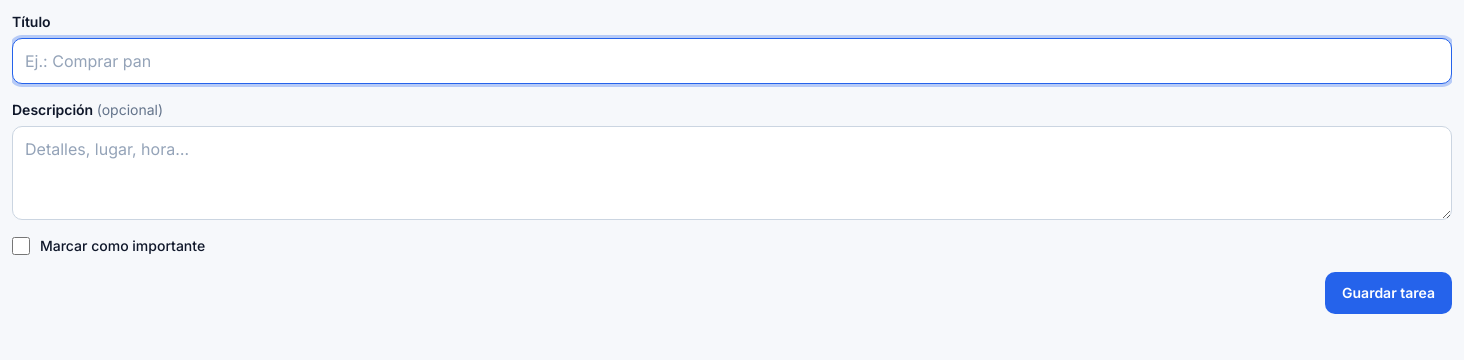
Test: TaskForm › muestra un error y no envía si el título está vacío
Click the button "Guardar tarea" at point(1388, 293), box [1325, 272, 1452, 314]
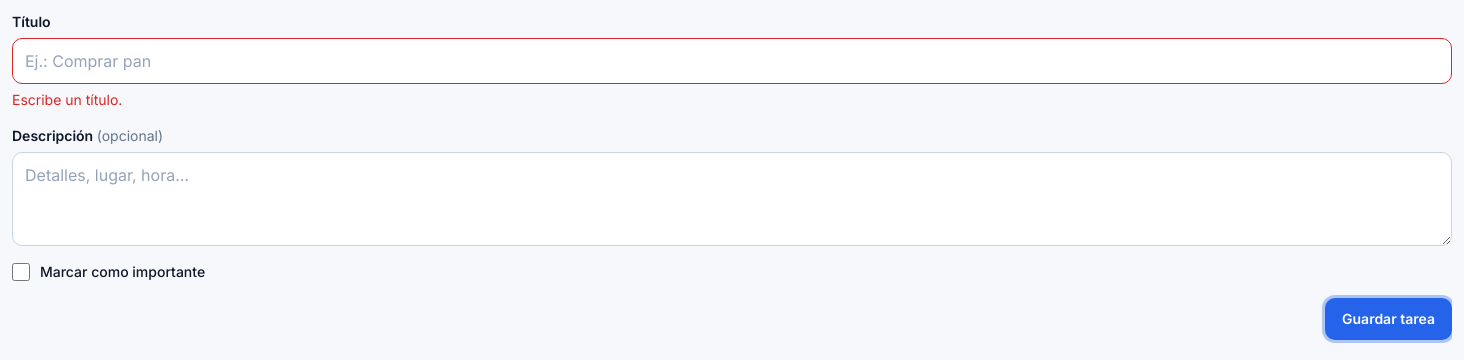
expect the text "Escribe un título." is shown: met, box [12, 91, 122, 108]
